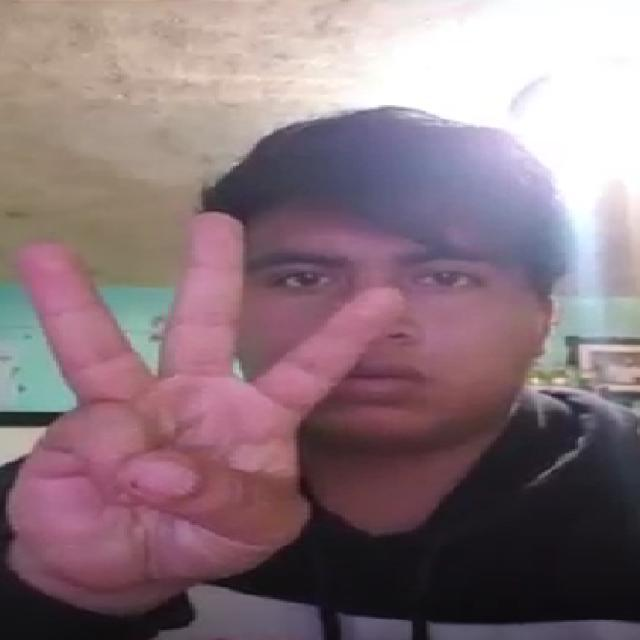W: (0, 206, 415, 604)
